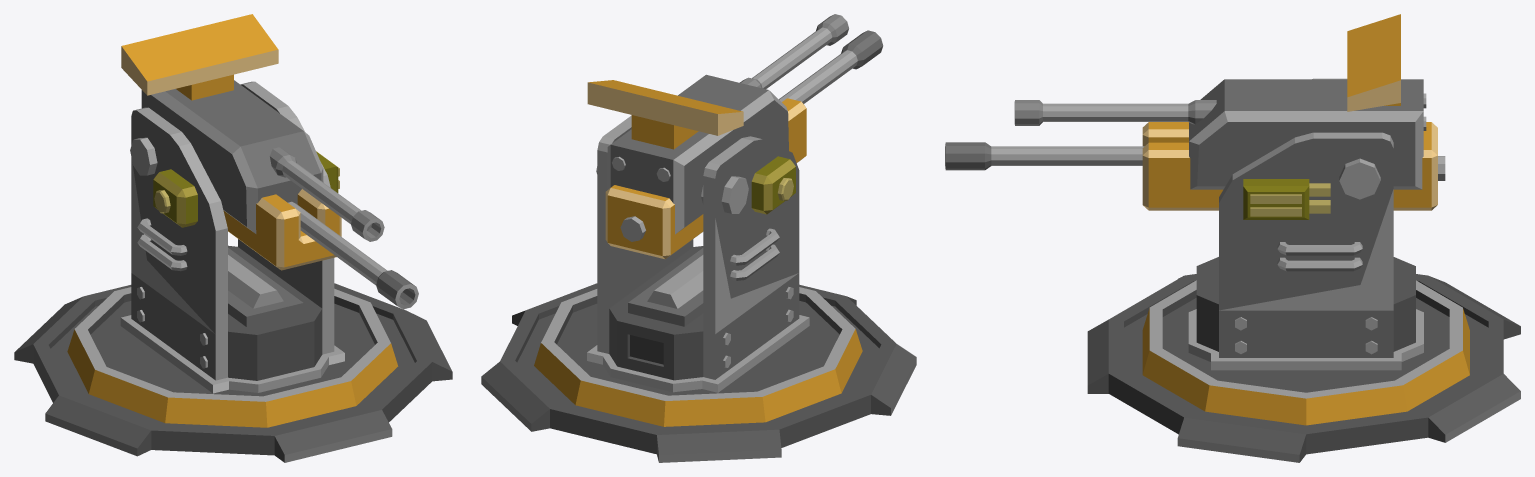
Rendered from tower_machinegun_yellow_2.fbx.
The picture shows the model from 3 angles, left to right: view 1: azimuth 30°, elevation 25°; view 2: azimuth 150°, elevation 25°; view 3: azimuth 270°, elevation 25°; orthographic projection. The views are drawn at different scales.
Visible parts, largest first — view 1: top_machinegun_yellow_2, tower_machinegun_yellow_2; view 2: top_machinegun_yellow_2, tower_machinegun_yellow_2; view 3: top_machinegun_yellow_2, tower_machinegun_yellow_2.
Boxes of the visible parts, x1,y1,x2,y2 form: top_machinegun_yellow_2: (67,14,418,427); tower_machinegun_yellow_2: (14,283,452,462); top_machinegun_yellow_2: (534,14,883,426); tower_machinegun_yellow_2: (481,283,916,462); top_machinegun_yellow_2: (945,14,1469,425); tower_machinegun_yellow_2: (1087,274,1520,462).
Bounding box in the file's own units: 172 × 133 × 217.
